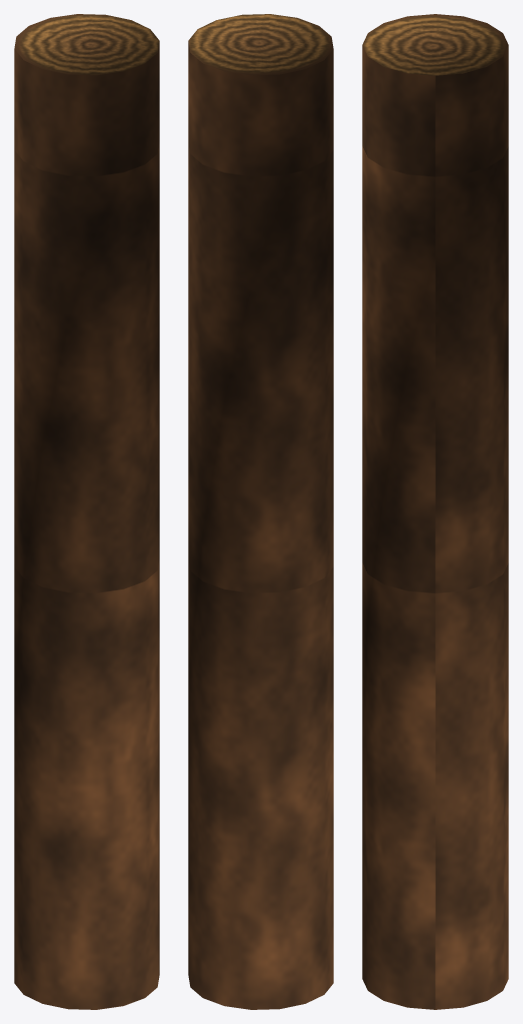
The model's file is log_pole.glb.
3 renders of one model, left to right at view 1: azimuth 30°, elevation 25°; view 2: azimuth 150°, elevation 25°; view 3: azimuth 270°, elevation 25°, orthographic.
Visible parts, largest first — view 1: log_pole; view 2: log_pole; view 3: log_pole.
Boxes of the visible parts, x1,y1,x2,y2 form: log_pole: (14, 14, 159, 1009); log_pole: (188, 14, 333, 1009); log_pole: (362, 14, 508, 1009).
Size of the model in its own units: 0.22 by 1.55 by 0.22.
2 materials, 2 textured.
